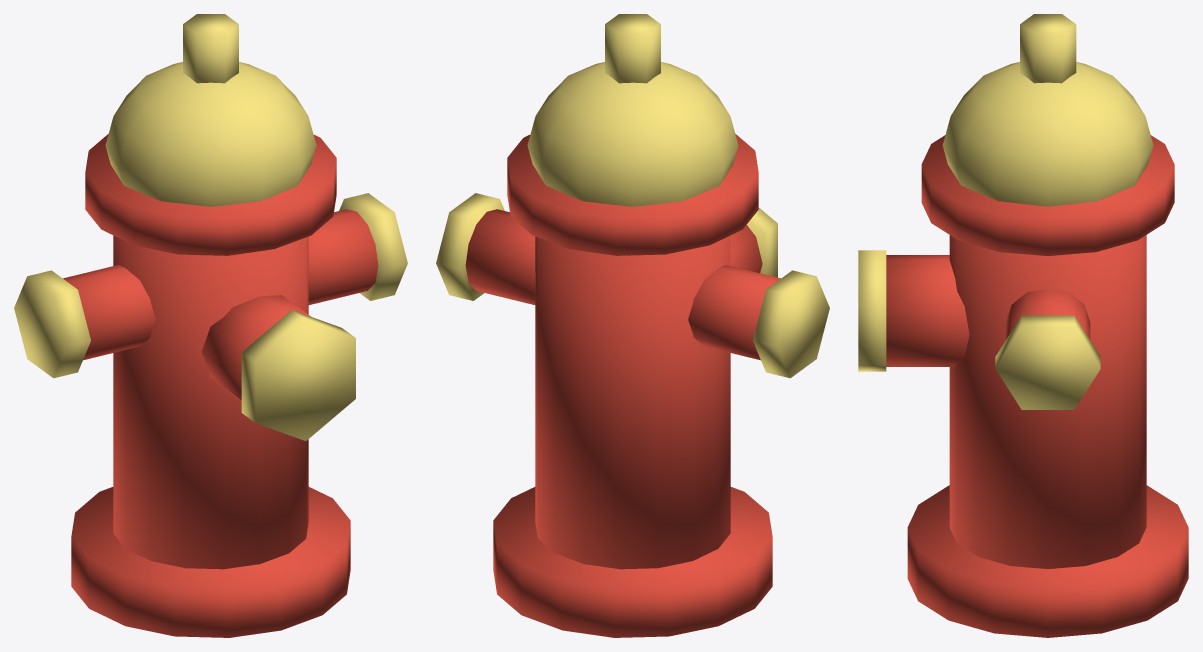
Rendered from hydrant.glb.
3 views of the same model, side by side, from view 1: azimuth 30°, elevation 25°; view 2: azimuth 150°, elevation 25°; view 3: azimuth 270°, elevation 25° (orthographic).
Parts seen in each view (by area): view 1: hydrant; view 2: hydrant; view 3: hydrant.
Boxes of the visible parts, bbox=[...] form: hydrant: bbox=[14, 14, 407, 637]; hydrant: bbox=[436, 14, 829, 637]; hydrant: bbox=[858, 14, 1188, 637].
Bounding box in the file's own units: 0.56 × 0.87 × 0.47.
